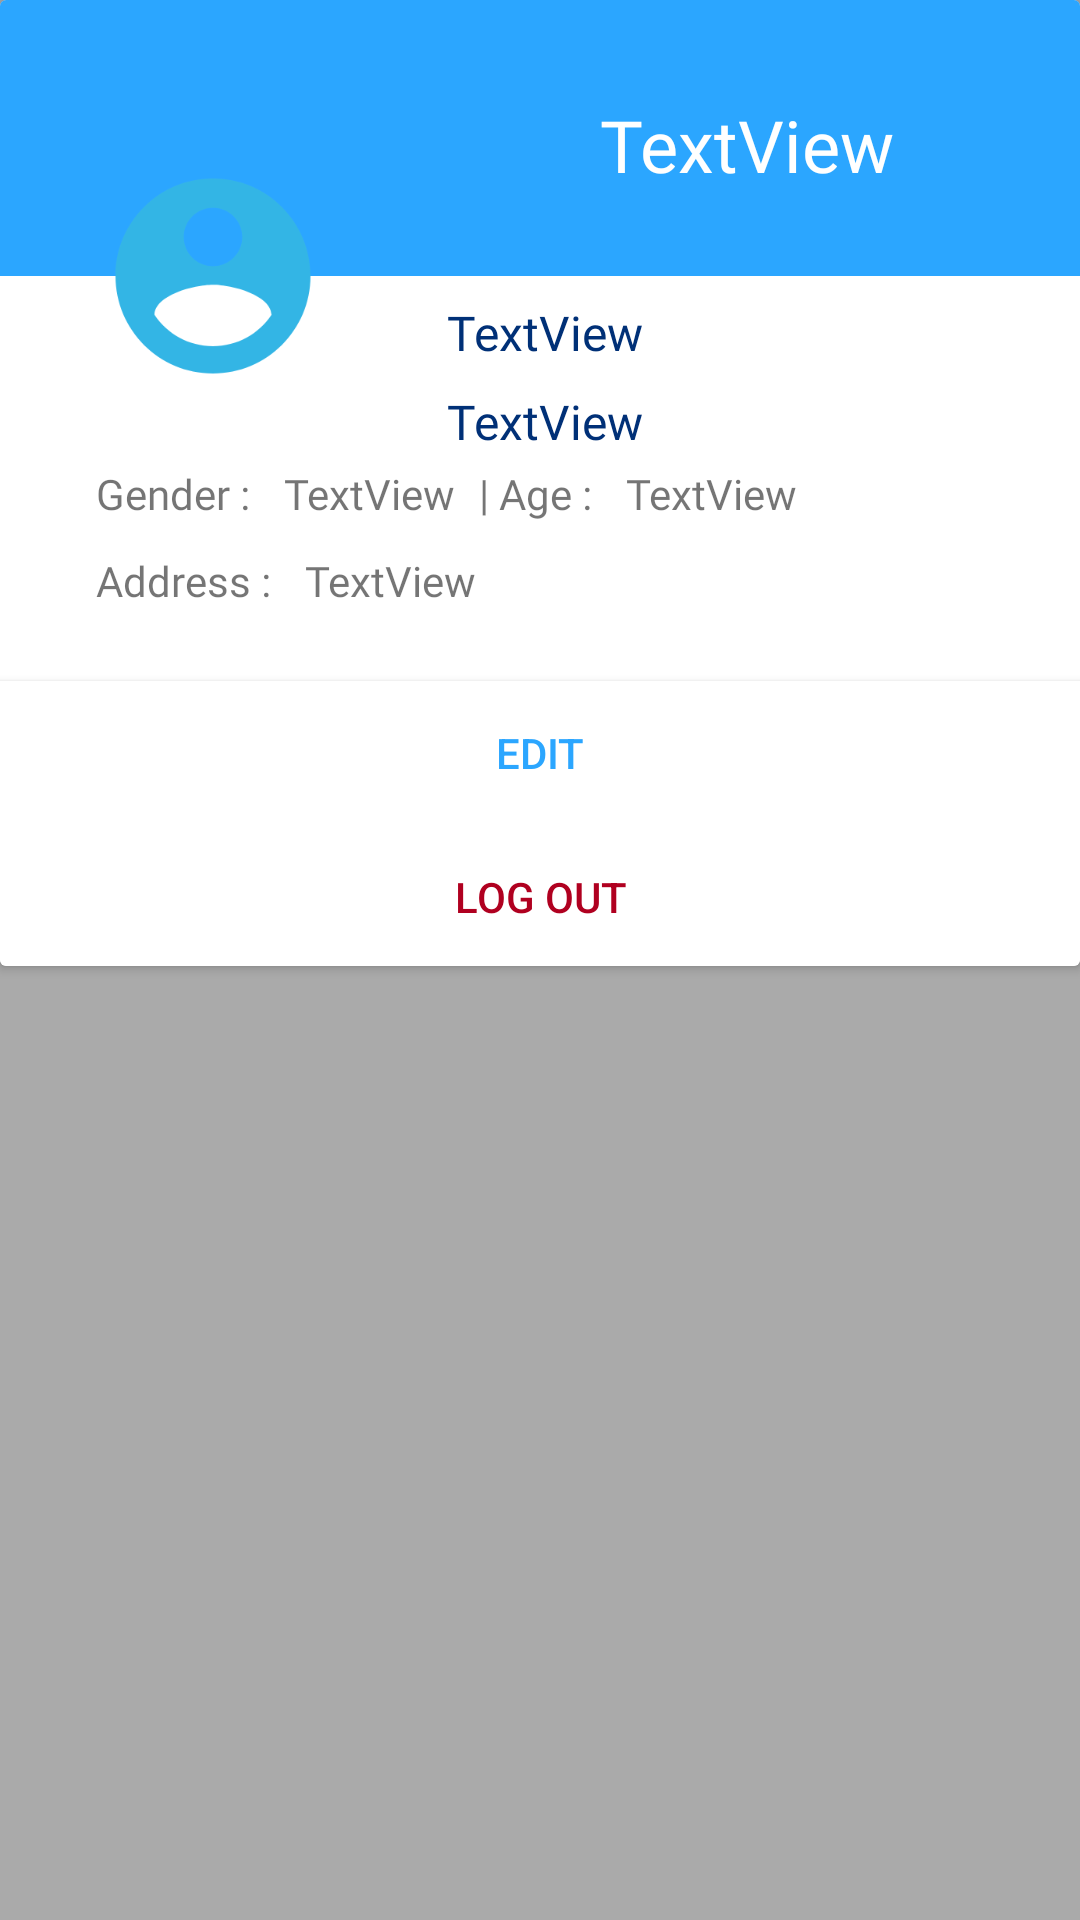

Icons on this 1080*1920 Android screen, each with the point to tap as (x,y):
account circle: (213,276)
